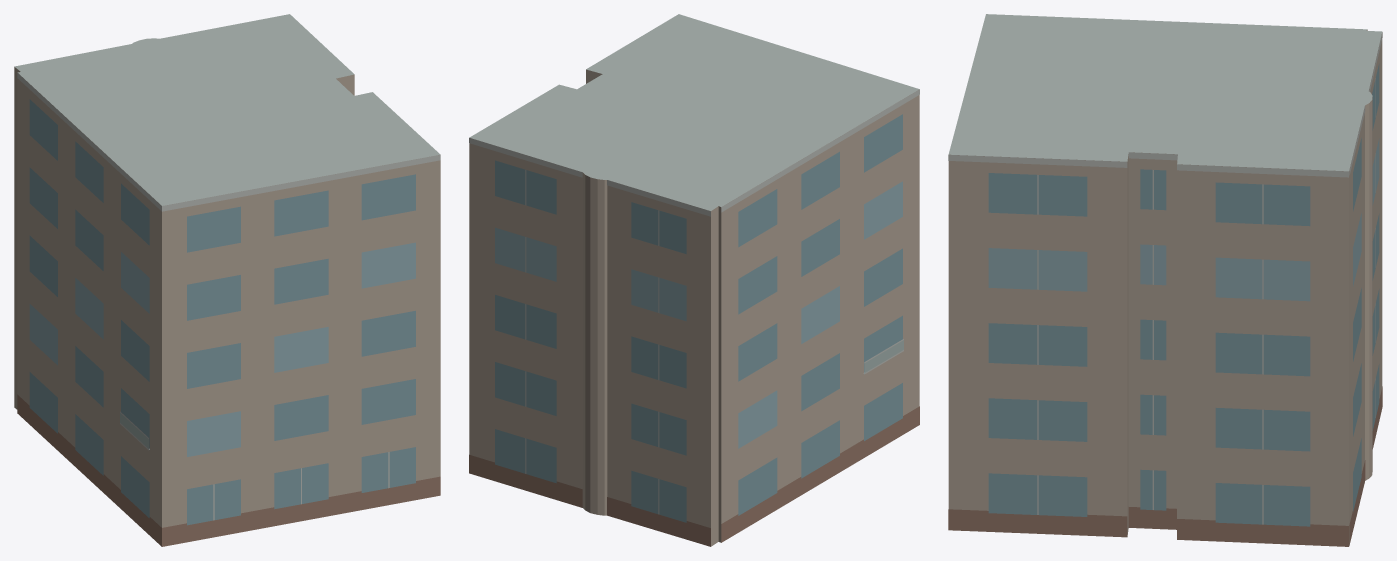
The model's file is survey-upis-32808998.glb.
The picture shows the model from 3 angles, left to right: view 1: azimuth 30°, elevation 25°; view 2: azimuth 150°, elevation 25°; view 3: azimuth 270°, elevation 25°; orthographic projection. The views are drawn at different scales.
Visible parts, largest first — view 1: survey-upis-32808998.tmp; view 2: survey-upis-32808998.tmp; view 3: survey-upis-32808998.tmp.
Part boxes in pixels (x1,y1,x2,y2): survey-upis-32808998.tmp: (14,14,440,546); survey-upis-32808998.tmp: (469,14,919,546); survey-upis-32808998.tmp: (948,14,1382,546).
Bounding box in the file's own units: 13.31 × 14.8 × 15.51.
